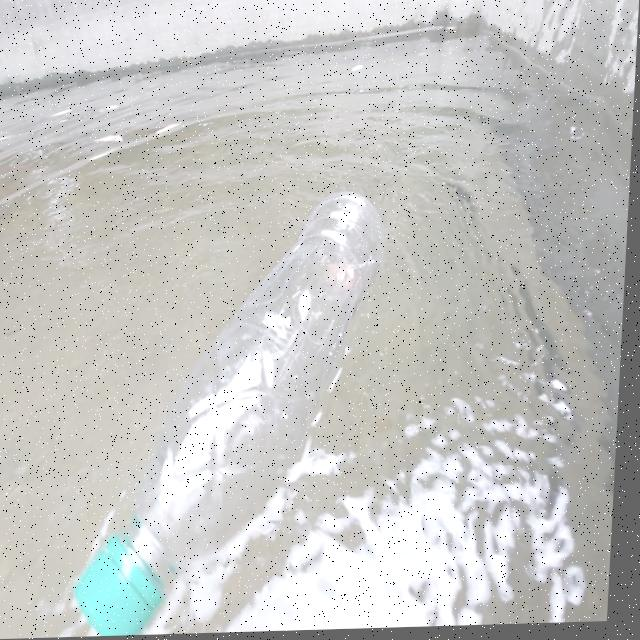waterbottle: (59, 169, 430, 638)
